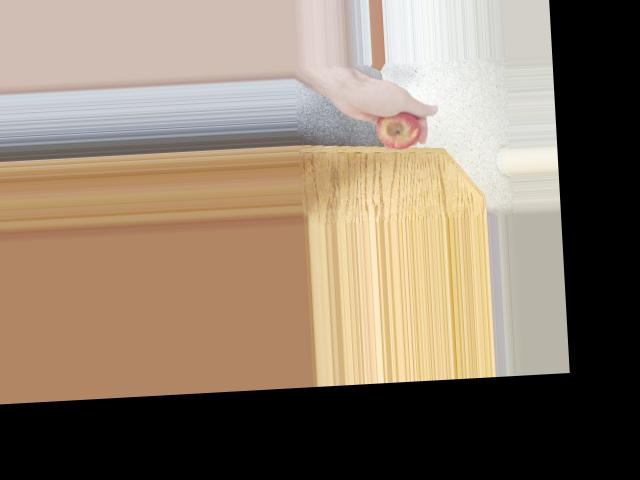apple: (372, 105, 424, 151)
